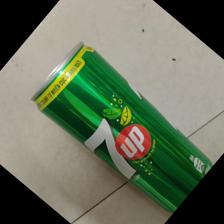7up: (30, 41, 224, 218)
